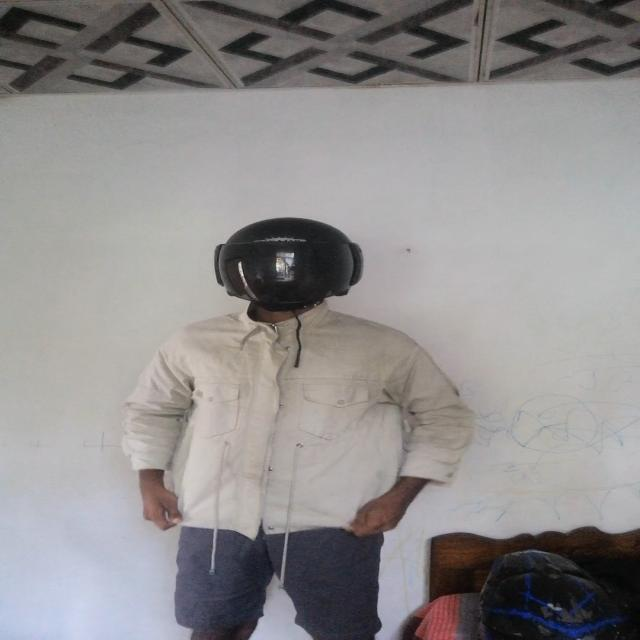Helmet_Wearer: (195, 217, 378, 340)
Jacket_Wearer: (116, 295, 502, 557)
Person: (114, 197, 449, 640)
